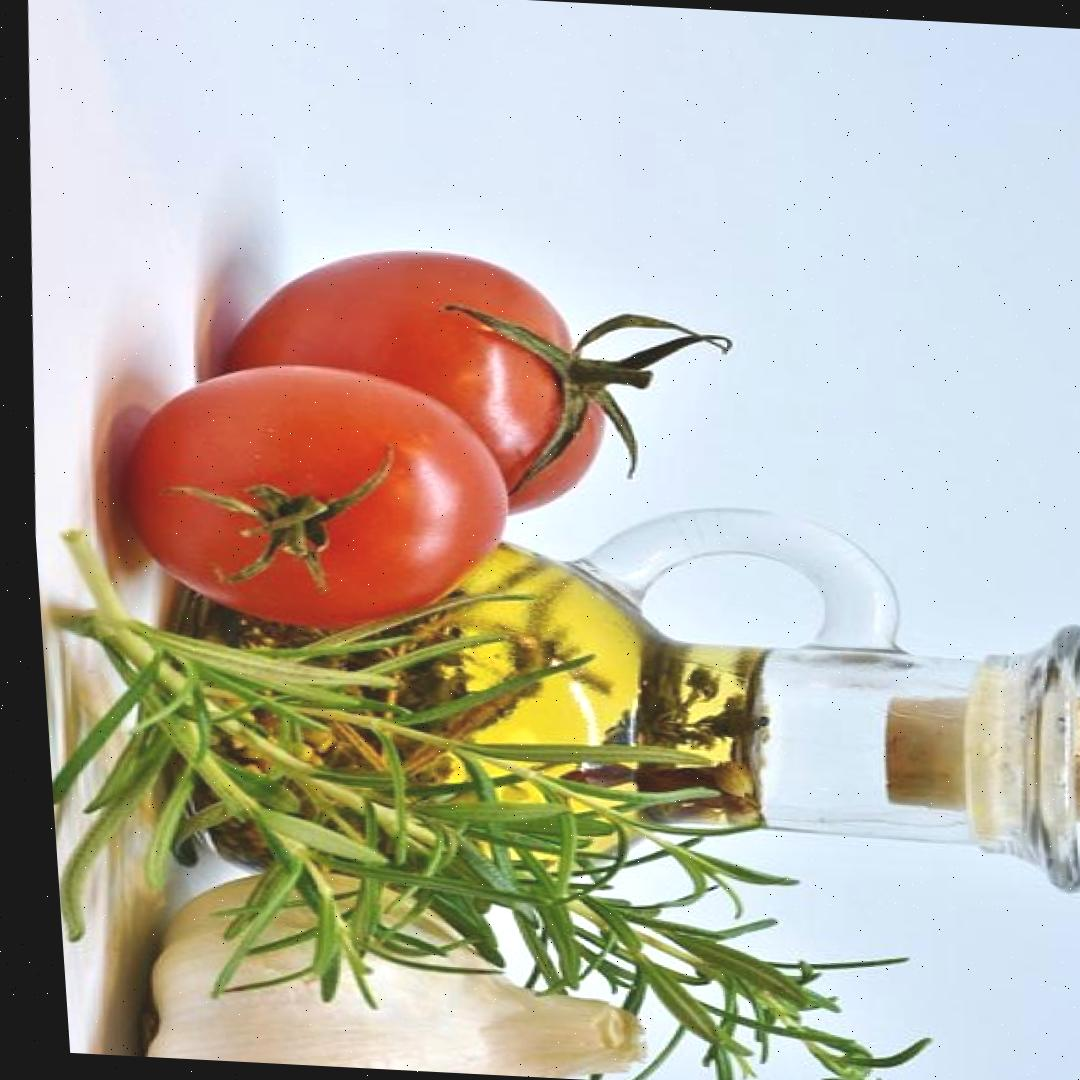matang: (111, 358, 530, 638), (202, 243, 619, 523)
